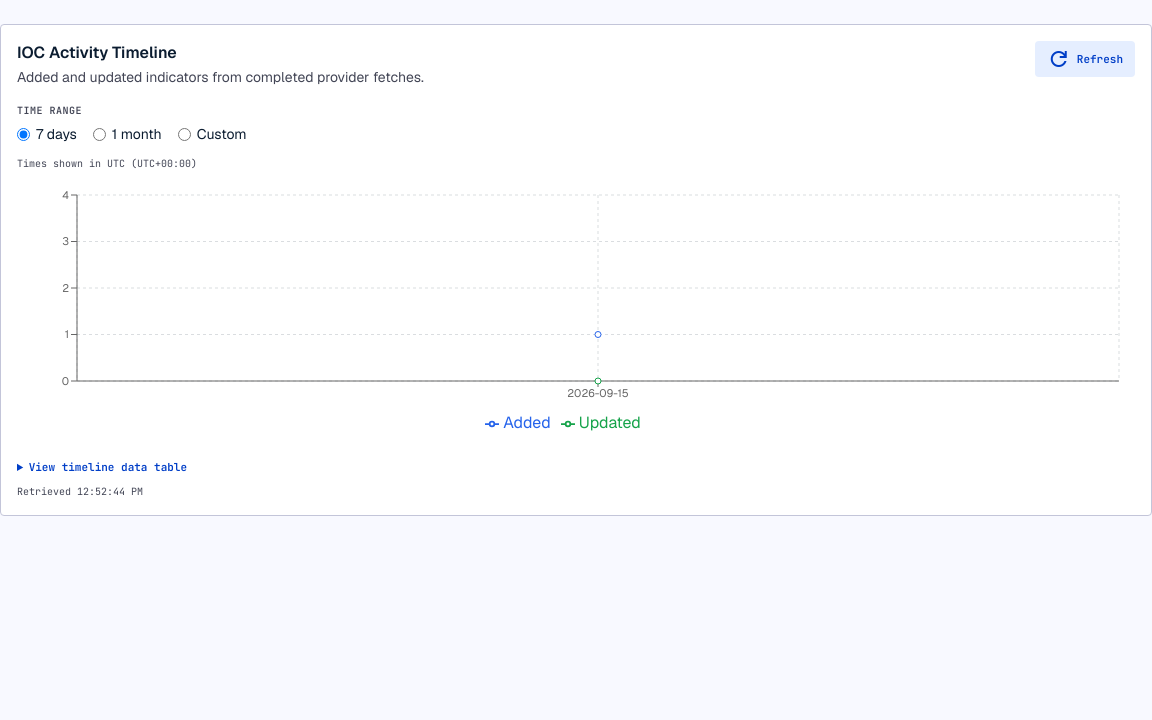
Test: keeps the last points and marks the timeline stale after a failed refresh
The image size is (1152, 720).
Expected: the text "2026-09-15" is shown, [567,386,629,400]
Click the button "Refresh".
click(1085, 59)  # box [1035,41,1135,77]
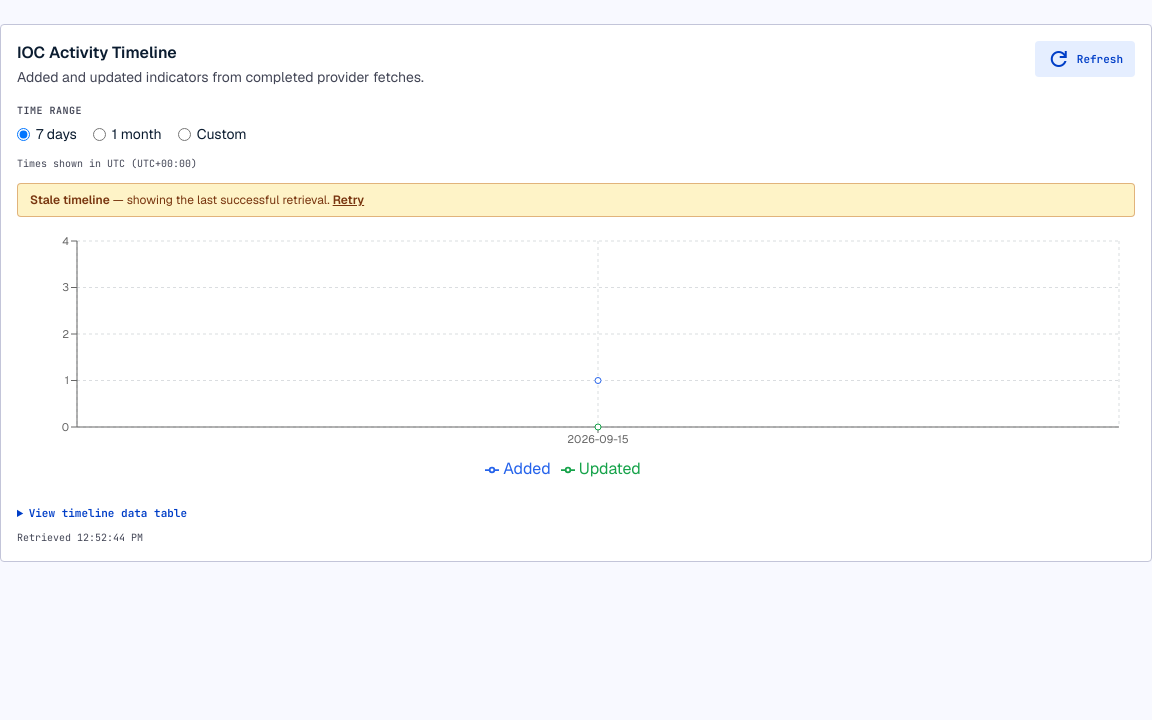
Expected: the text "2026-09-15" is shown, [567,432,629,446]
Now the text "Stale timeline" is shown, box [30,192,110,208]
